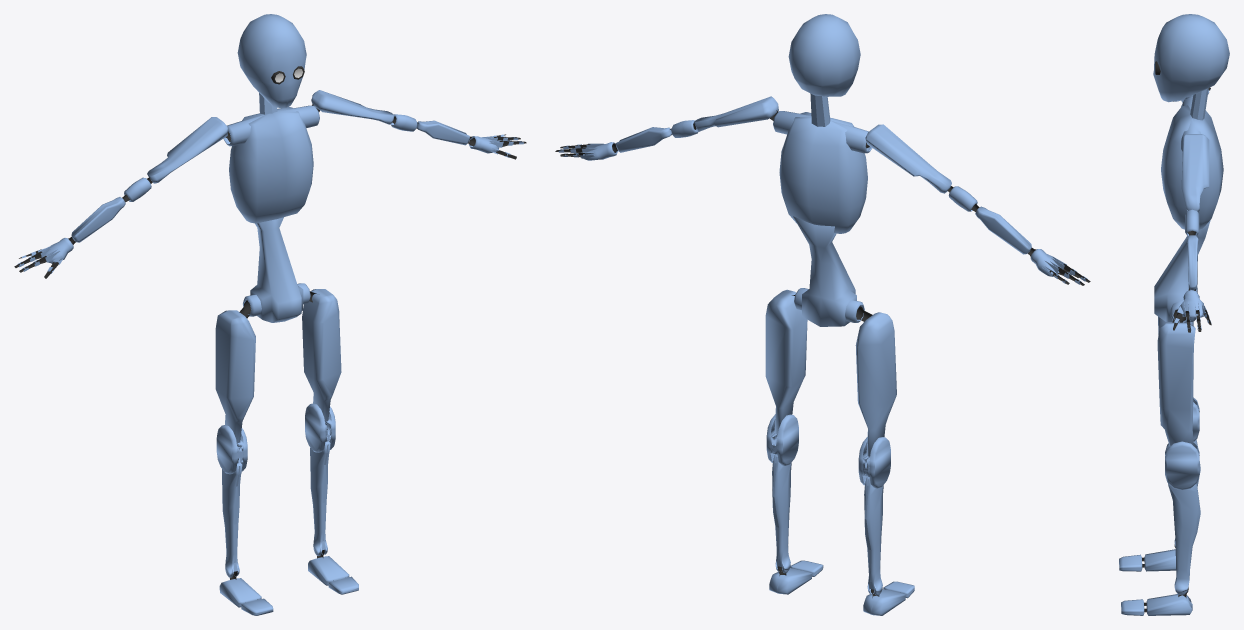
File: Riggercharrobot.fbx
The picture shows the model from 3 angles, left to right: view 1: azimuth 30°, elevation 25°; view 2: azimuth 150°, elevation 25°; view 3: azimuth 270°, elevation 25°; orthographic projection. The views are drawn at different scales.
Visible parts, largest first — view 1: Cube.003, Sphere.001, Circle.003, Circle.010, Cylinder.012, Circle.012, Circle.009, Cylinder.002, Circle.006, Circle.008, Circle.011, Circle.013 (+4 smaller); view 2: Cube.003, Sphere.001, Circle.003, Circle.010, Cylinder.012, Circle.012, Circle.009, Cylinder.002, Circle.011, Circle.008, Circle.013, Circle.014 (+4 smaller); view 3: Cube.003, Sphere.001, Circle.010, Circle.012, Cylinder.002, Circle.011, Circle.013, Circle.006, Cylinder.011, Circle.005, Cylinder.008, Cylinder.007 (+1 smaller).
Boxes of the visible parts, bbox=[...] form: Cube.003: bbox=[223, 105, 319, 322]; Sphere.001: bbox=[237, 14, 306, 107]; Circle.003: bbox=[215, 300, 255, 443]; Circle.010: bbox=[302, 289, 341, 421]; Cylinder.012: bbox=[147, 117, 230, 183]; Circle.012: bbox=[310, 441, 330, 555]; Circle.009: bbox=[222, 462, 242, 577]; Cylinder.002: bbox=[311, 90, 396, 124]; Circle.006: bbox=[219, 571, 273, 615]; Circle.008: bbox=[216, 425, 247, 474]; Circle.011: bbox=[305, 403, 335, 452]; Circle.013: bbox=[308, 550, 358, 594]; Cube.003: bbox=[773, 111, 872, 326]; Sphere.001: bbox=[788, 14, 860, 96]; Circle.003: bbox=[855, 306, 896, 456]; Circle.010: bbox=[765, 289, 807, 434]; Cylinder.012: bbox=[865, 124, 953, 193]; Circle.012: bbox=[772, 454, 791, 573]; Circle.009: bbox=[864, 476, 883, 595]; Cylinder.002: bbox=[693, 96, 778, 131]; Circle.011: bbox=[766, 414, 798, 465]; Circle.008: bbox=[858, 437, 890, 488]; Circle.013: bbox=[769, 560, 823, 594]; Circle.014: bbox=[971, 204, 1035, 256]; Cube.003: bbox=[1154, 96, 1223, 322]; Sphere.001: bbox=[1153, 14, 1229, 102]; Circle.010: bbox=[1157, 309, 1195, 446]; Circle.012: bbox=[1168, 483, 1200, 595]; Cylinder.002: bbox=[1181, 134, 1209, 212]; Circle.011: bbox=[1165, 441, 1199, 490]; Circle.013: bbox=[1121, 588, 1192, 615]; Circle.006: bbox=[1119, 544, 1175, 571]; Cylinder.011: bbox=[1173, 290, 1211, 332]; Circle.005: bbox=[1187, 230, 1198, 290]; Cylinder.008: bbox=[1190, 88, 1208, 120]; Cylinder.007: bbox=[1185, 209, 1199, 236].
Size of the model in its own units: 3447 by 3659 by 642.
